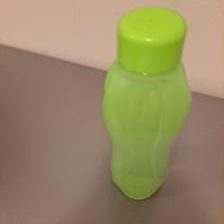bottle: (100, 8, 195, 200)
